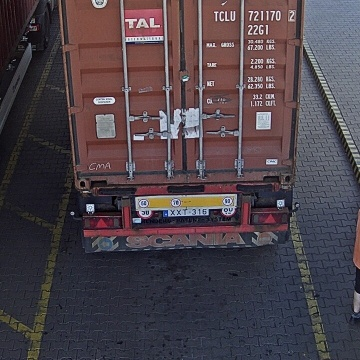serial_id: (214, 10, 295, 21)
